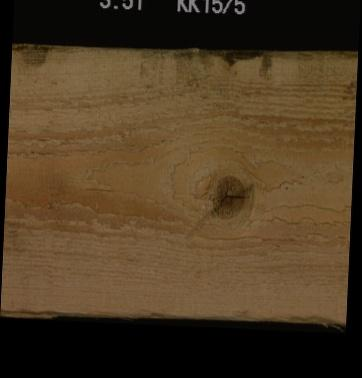sound_knot: (208, 171, 246, 220)
split: (79, 181, 120, 195)
wave: (0, 305, 183, 320), (197, 303, 345, 321)
